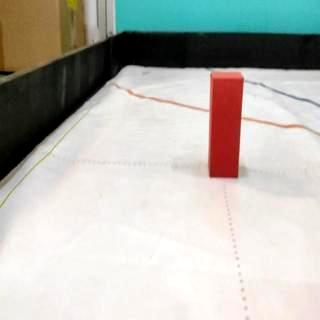redbox: (208, 69, 244, 179)
